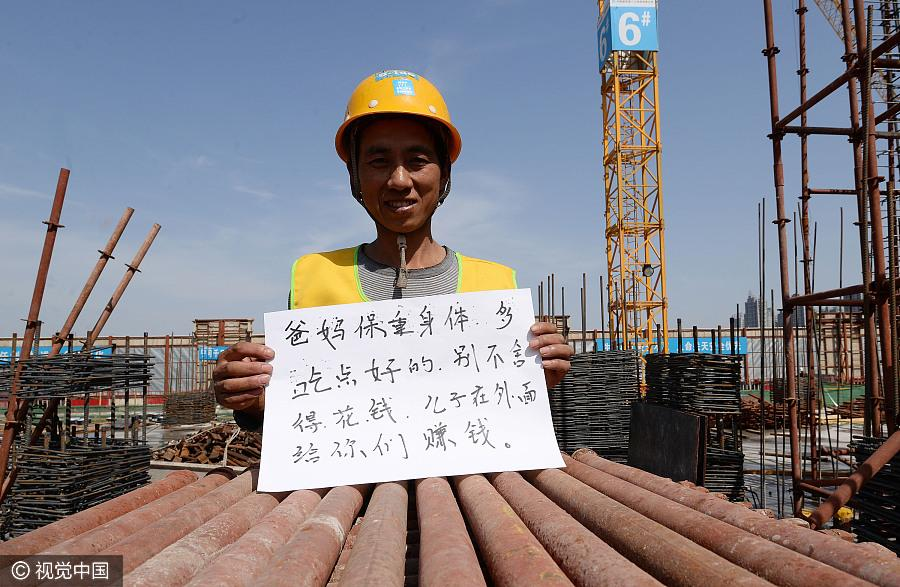helmet: (336, 69, 469, 159)
